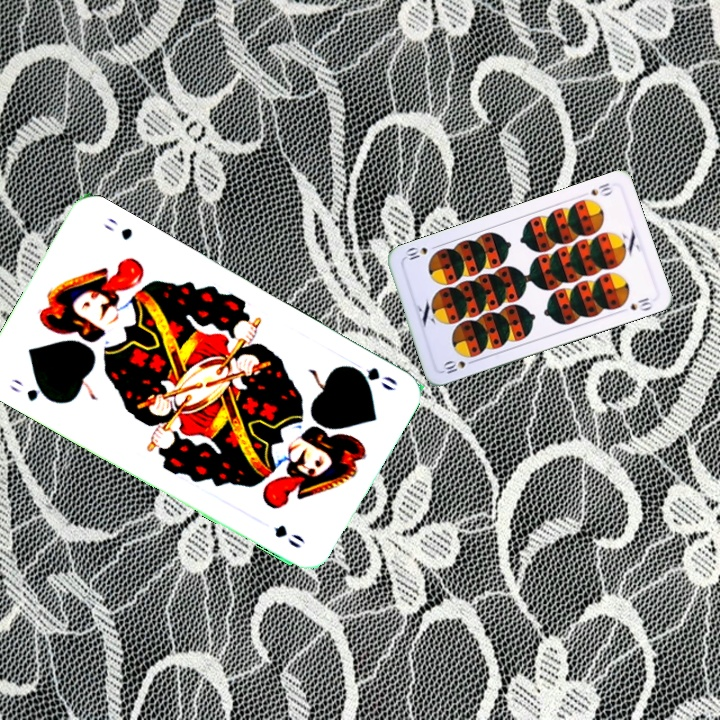GO: (343, 361, 401, 394), (6, 374, 57, 405)
S10: (439, 356, 478, 376), (587, 179, 615, 199)
